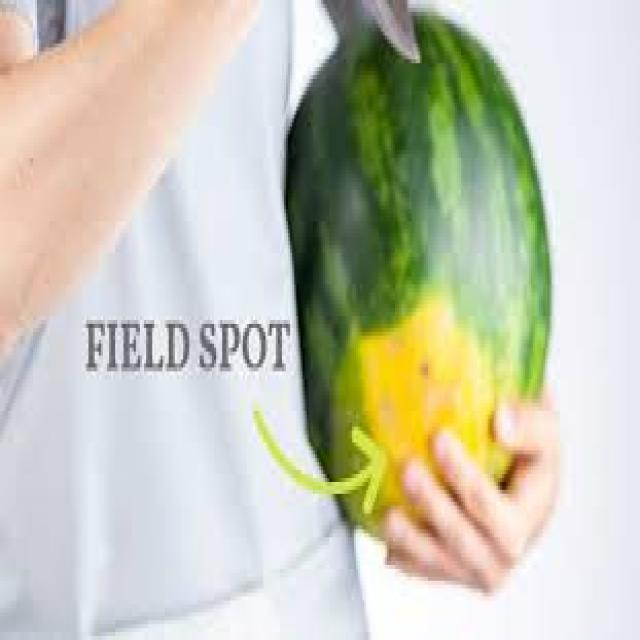watermelon: (278, 0, 551, 541)
